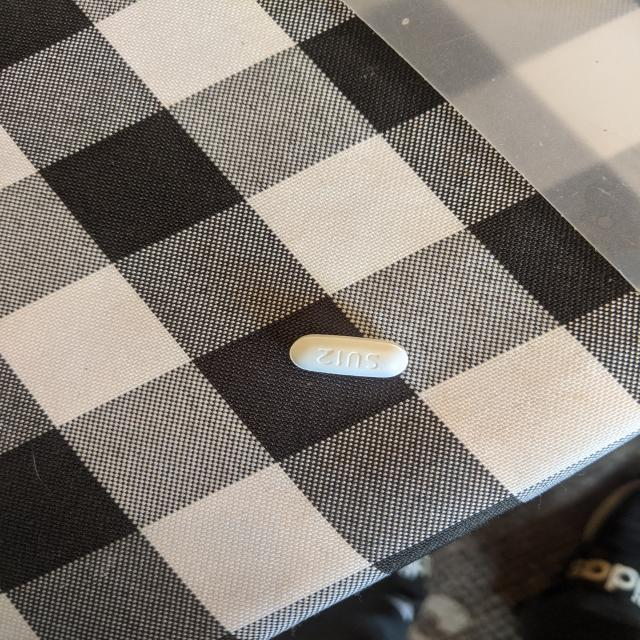non-organic waste: (288, 333, 409, 379)
